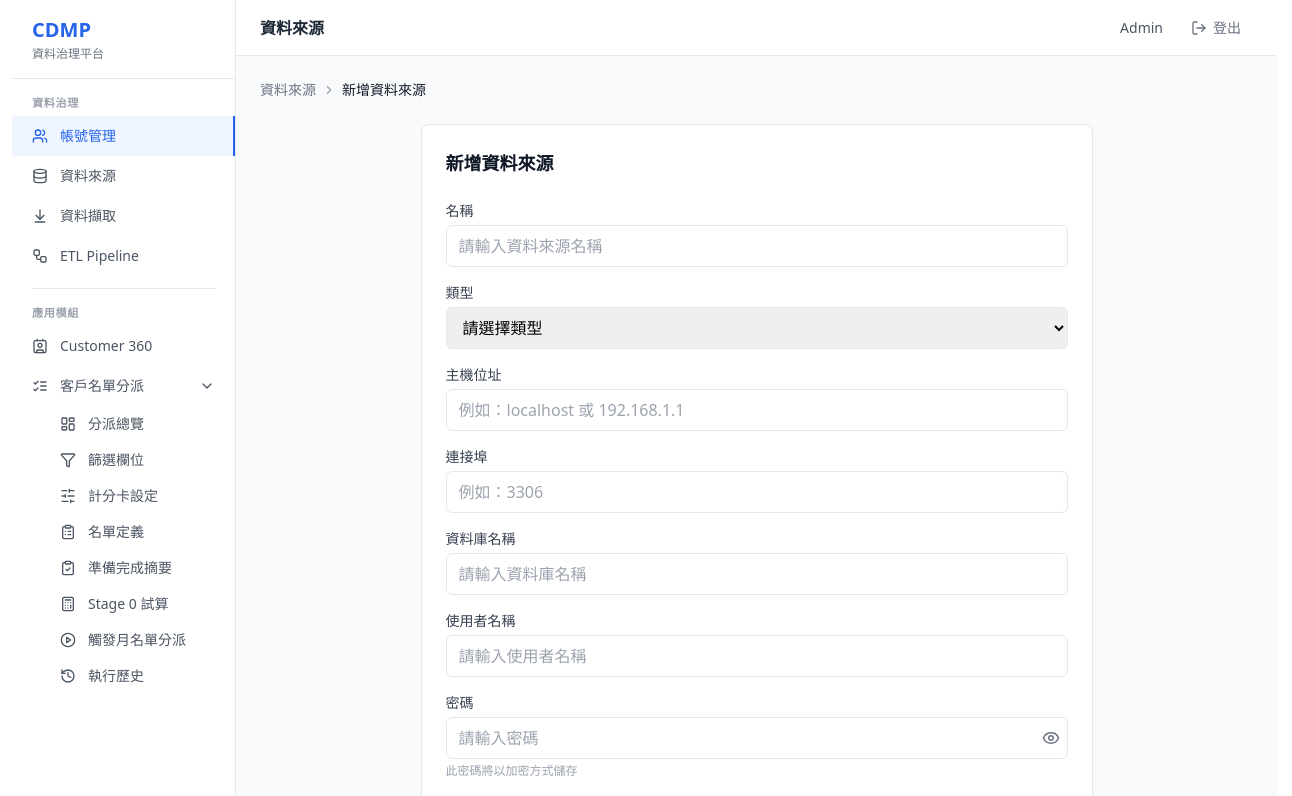
AddDatasourcePage › 類型選擇自動帶入 port › 選擇 MySQL 自動帶入 3306
The width and height of the screenshot is (1292, 796).
Select "MySQL" in the dropdown labelled "類型": (756,328) [446,307,1068,349]
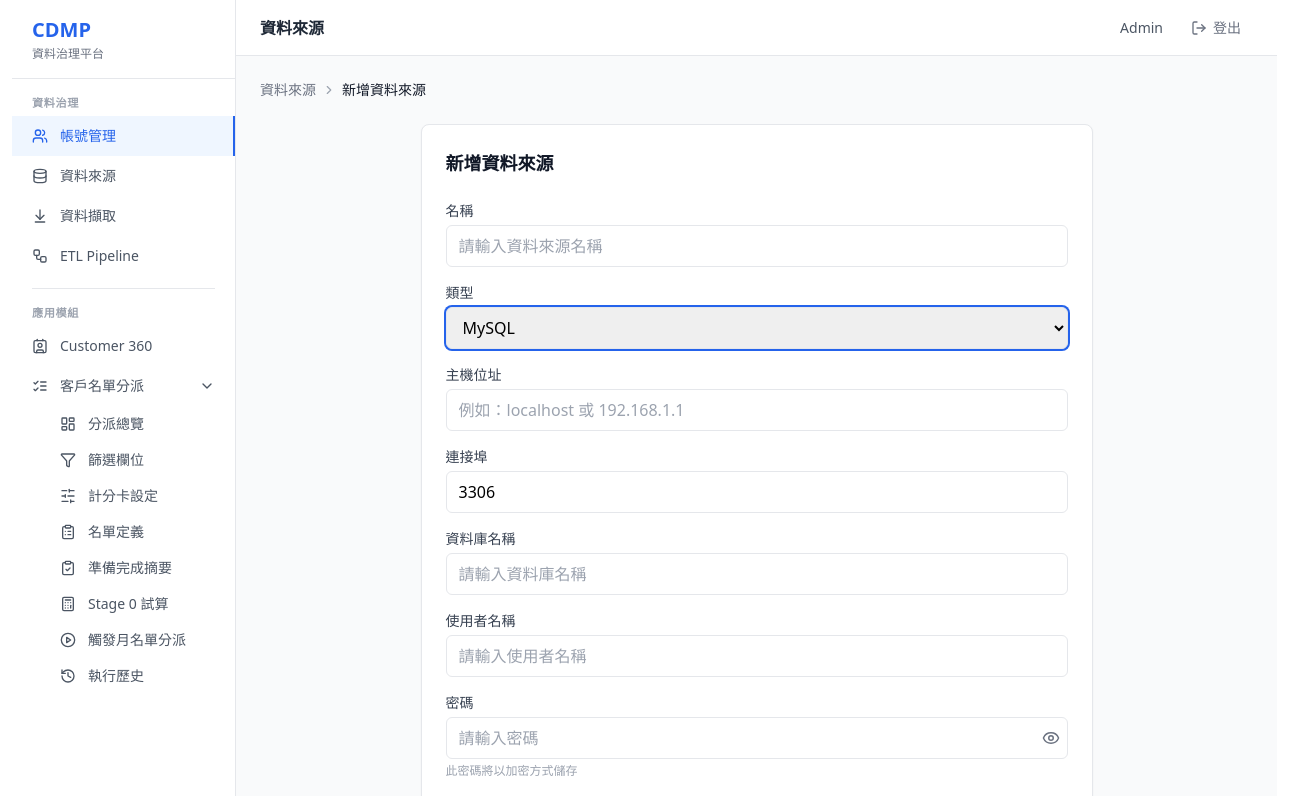
expect the number field labelled "連接埠" holds "3306": met, box [446,471,1068,513]
